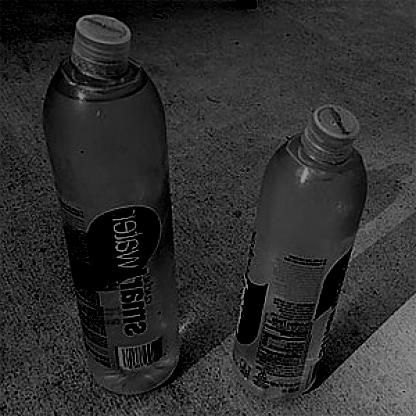bottle: (38, 16, 188, 392), (222, 98, 373, 402)
